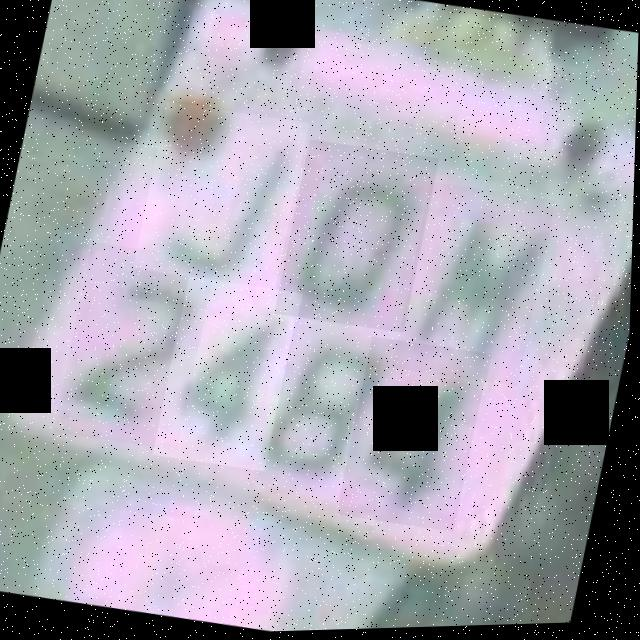2: (54, 239, 218, 454)
4: (340, 336, 493, 537), (154, 275, 304, 475)
B: (245, 293, 401, 507)
J: (134, 100, 310, 294)
N: (394, 181, 557, 392)
O: (275, 138, 441, 338)
